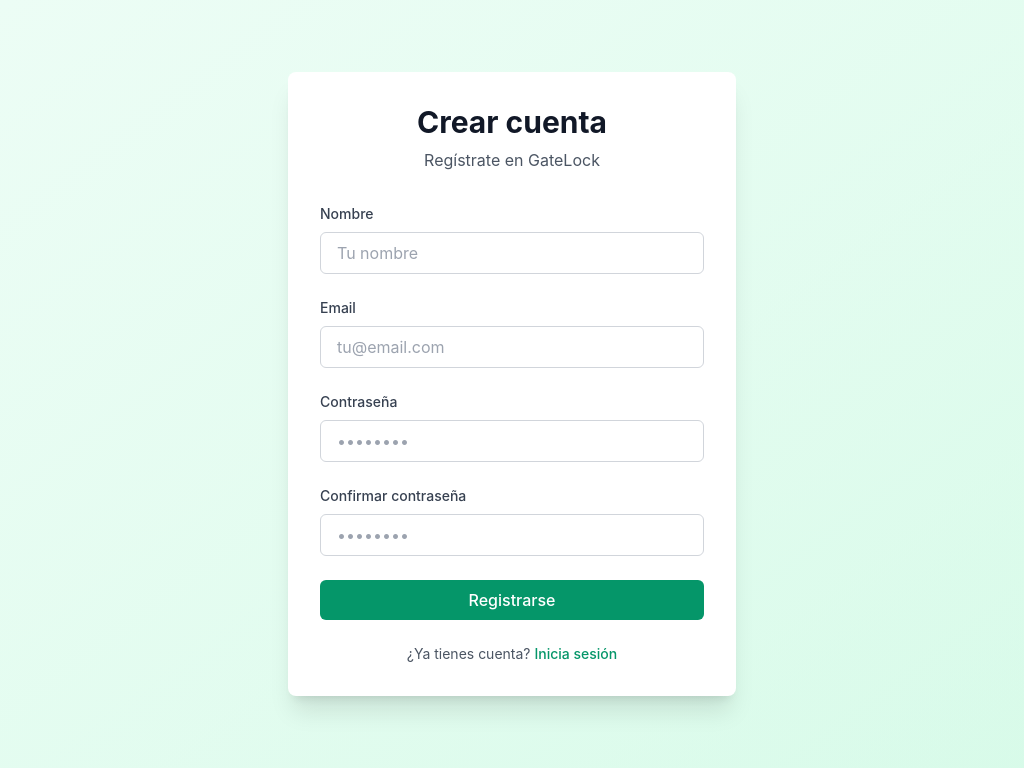
RegisterPage › shows error if passwords do not match
In the field labelled "Nombre": {"x": 512, "y": 253} [320,232,704,274], type "Test User"
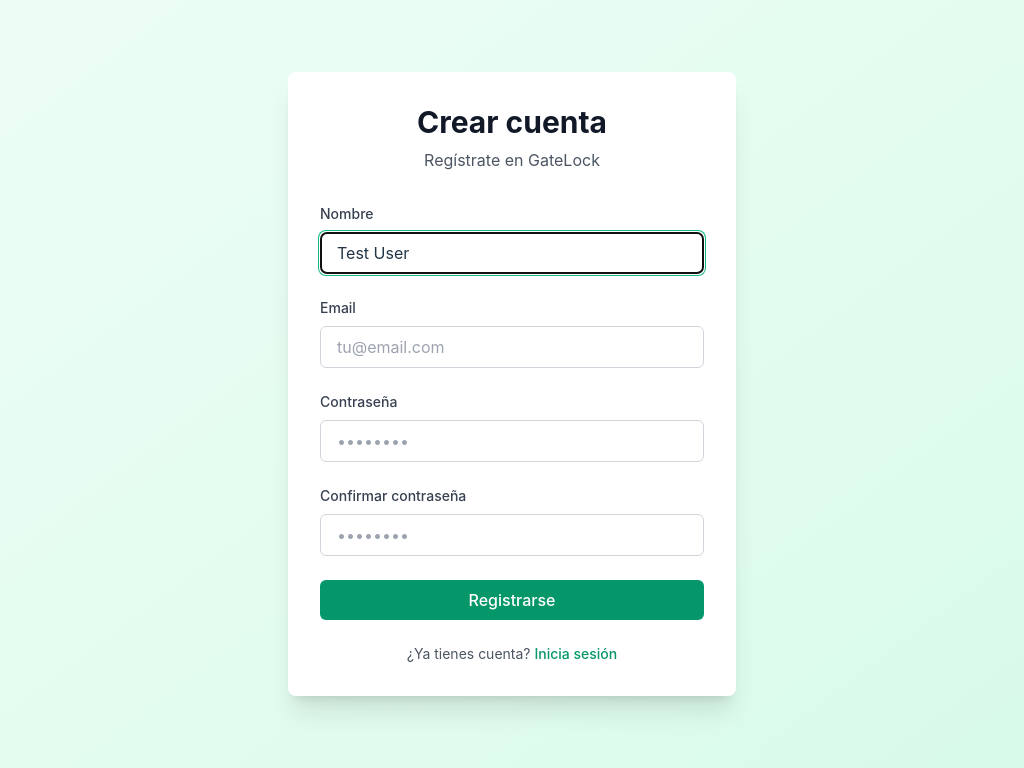
In the field labelled "Email": {"x": 512, "y": 347} [320,326,704,368], type "test@example.com"
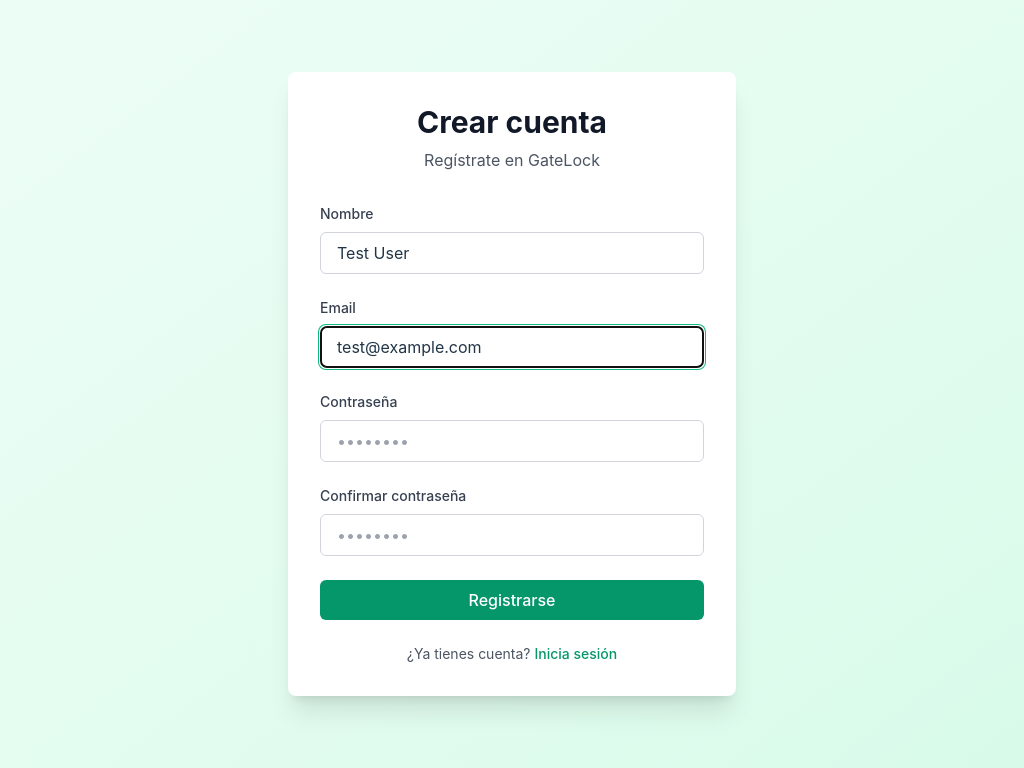
In the password field labelled "Contraseña": {"x": 512, "y": 441} [320,420,704,462], type "password123"
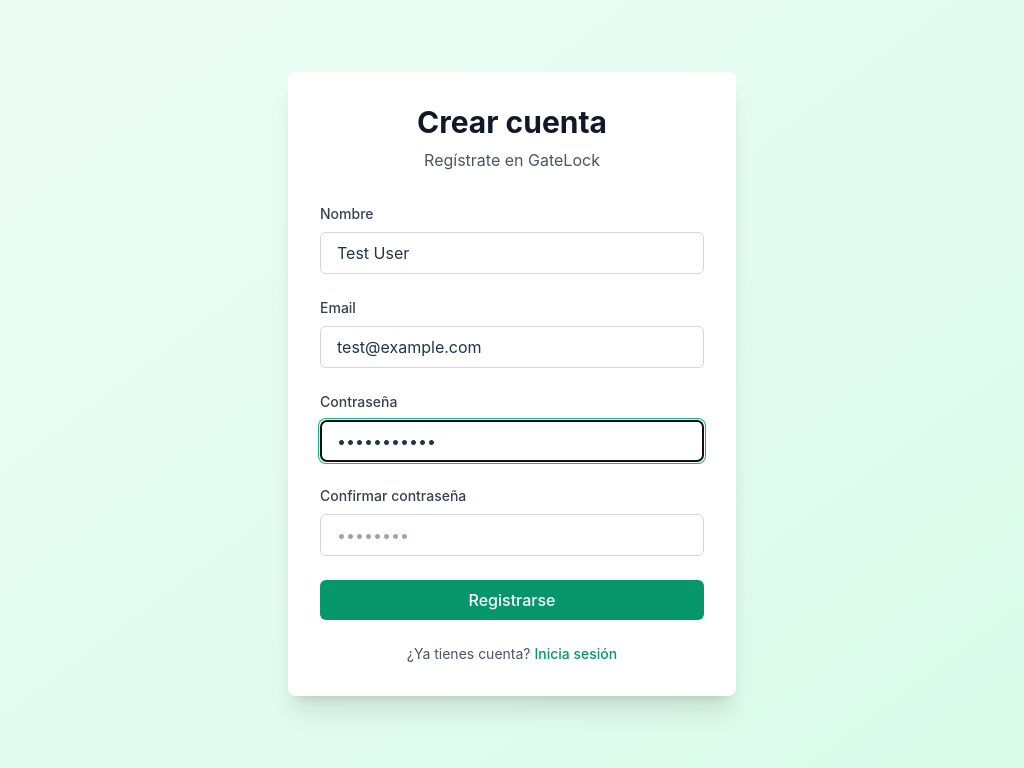
In the password field labelled "Confirmar contraseña": {"x": 512, "y": 535} [320,514,704,556], type "different-password"
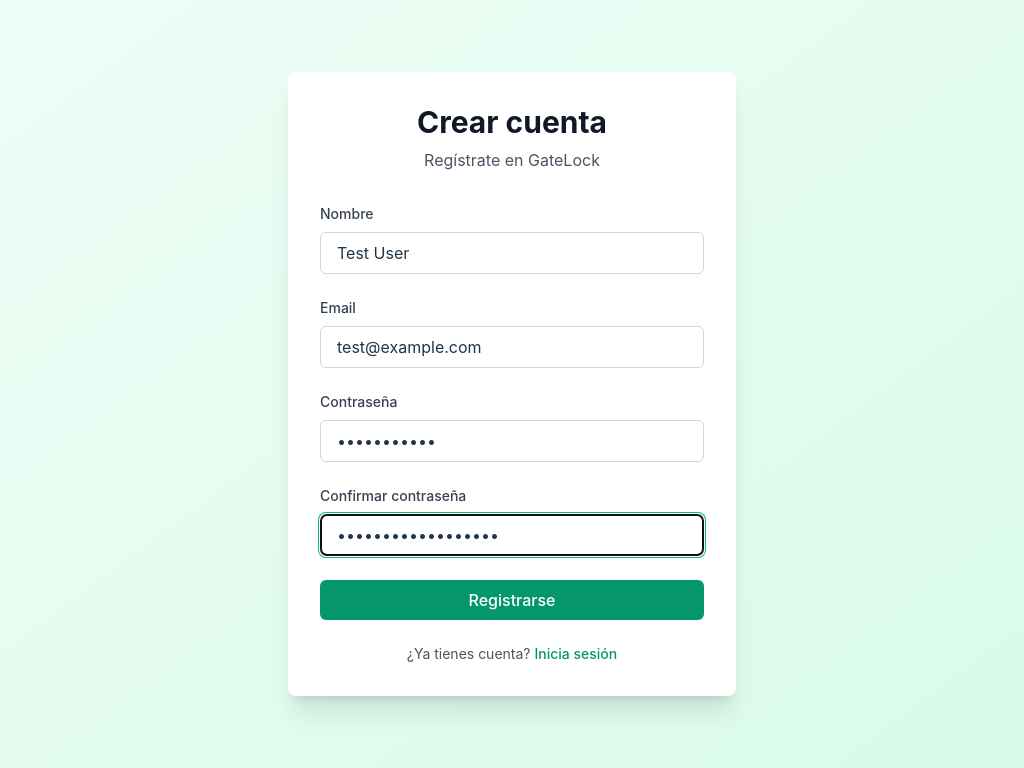
Click the button "Registrarse": {"x": 512, "y": 600} [320,580,704,620]
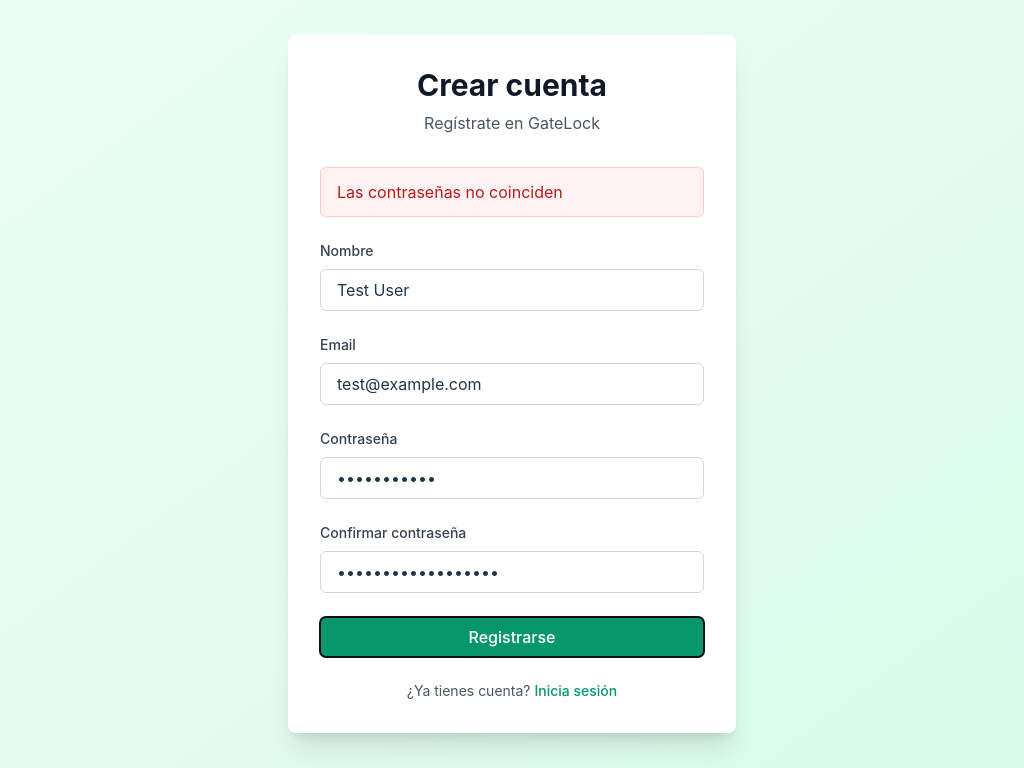
Check: the text "Las contraseñas no coinciden" is shown, box [320,167,704,217]
